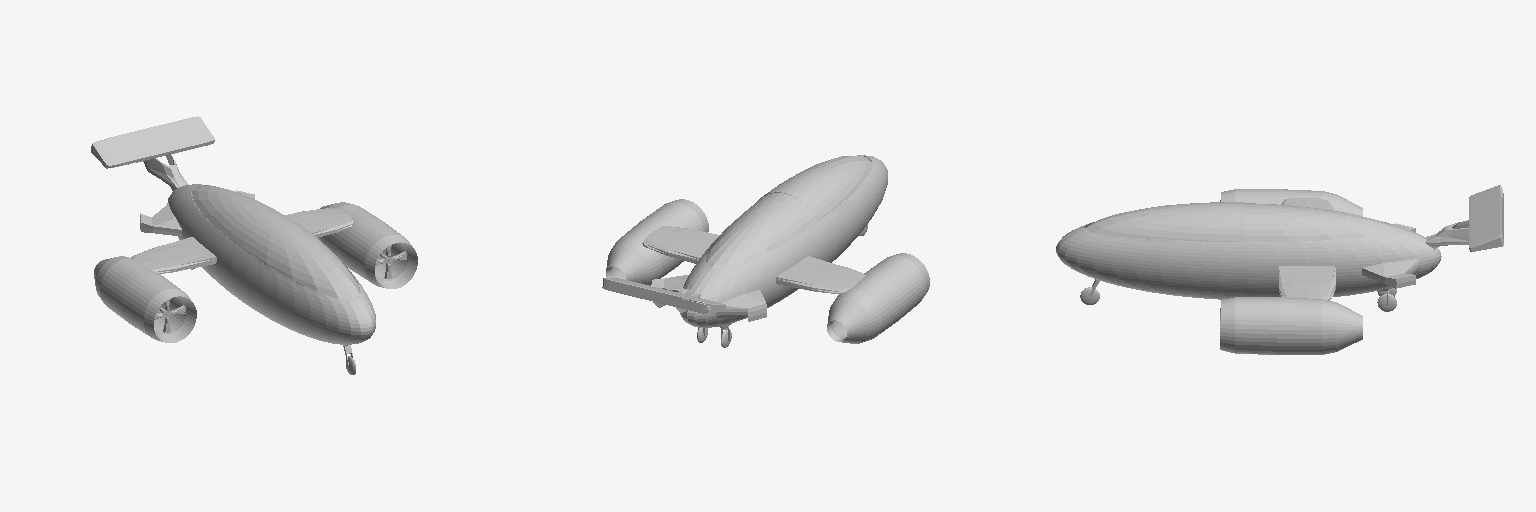
File: glider.obj
3 renders of one model, left to right at view 1: azimuth 30°, elevation 25°; view 2: azimuth 150°, elevation 25°; view 3: azimuth 270°, elevation 25°, orthographic.
Visible parts, largest first — view 1: polySurface6; view 2: polySurface6; view 3: polySurface6.
Part boxes in pixels (bbox=[...]): polySurface6: bbox=[91, 116, 417, 374]; polySurface6: bbox=[602, 155, 929, 347]; polySurface6: bbox=[1056, 185, 1503, 354].
Size of the model in its own units: 18.73 by 6.59 by 26.79.